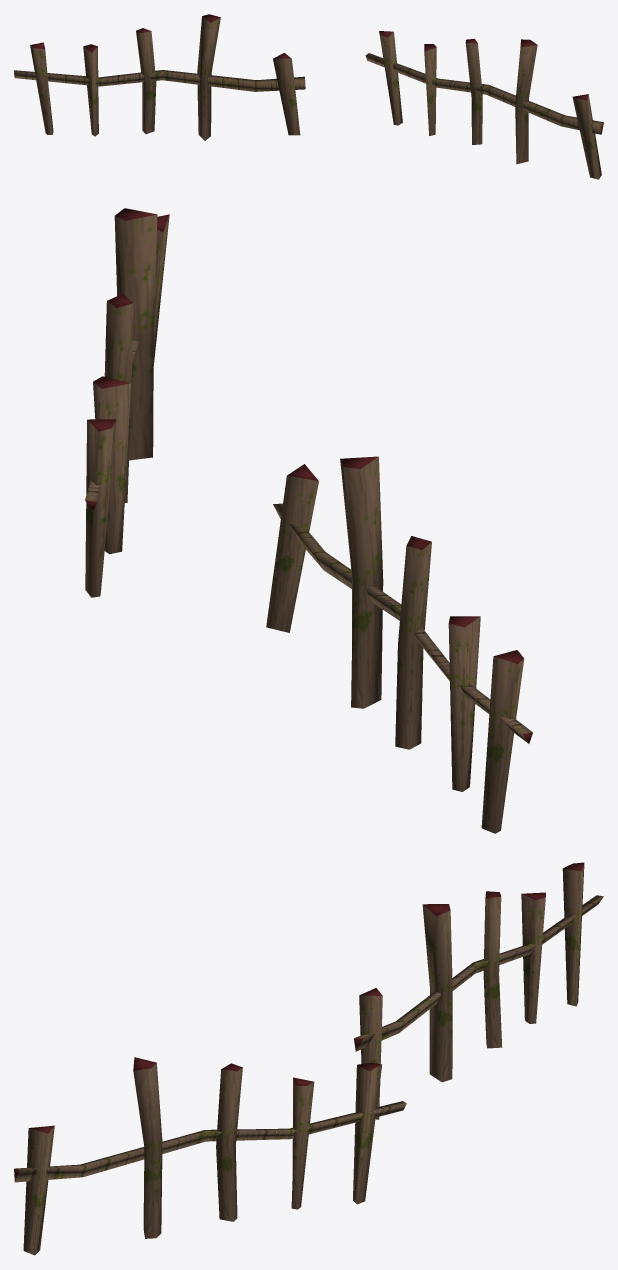
The model's file is all_daliang_field_b_i01_no_shadow.fbx.
The picture shows the model from 3 angles, top to bottom: view 1: azimuth 30°, elevation 25°; view 2: azimuth 150°, elevation 25°; view 3: azimuth 270°, elevation 25°; orthographic projection. The views are drawn at different scales.
Visible parts, largest first — view 1: all_daliang_field_b_i01_no_shadow; view 2: all_daliang_field_b_i01_no_shadow; view 3: all_daliang_field_b_i01_no_shadow.
Part boxes in pixels (x1,y1,x2,y2): all_daliang_field_b_i01_no_shadow: (14, 14, 603, 179); all_daliang_field_b_i01_no_shadow: (85, 208, 532, 833); all_daliang_field_b_i01_no_shadow: (14, 862, 603, 1255).
Bounding box in the file's own units: 563 × 171 × 503.
